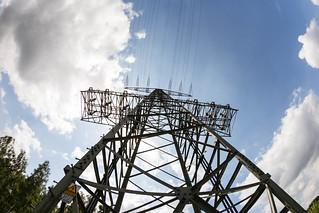power_tower: (56, 76, 313, 213)
